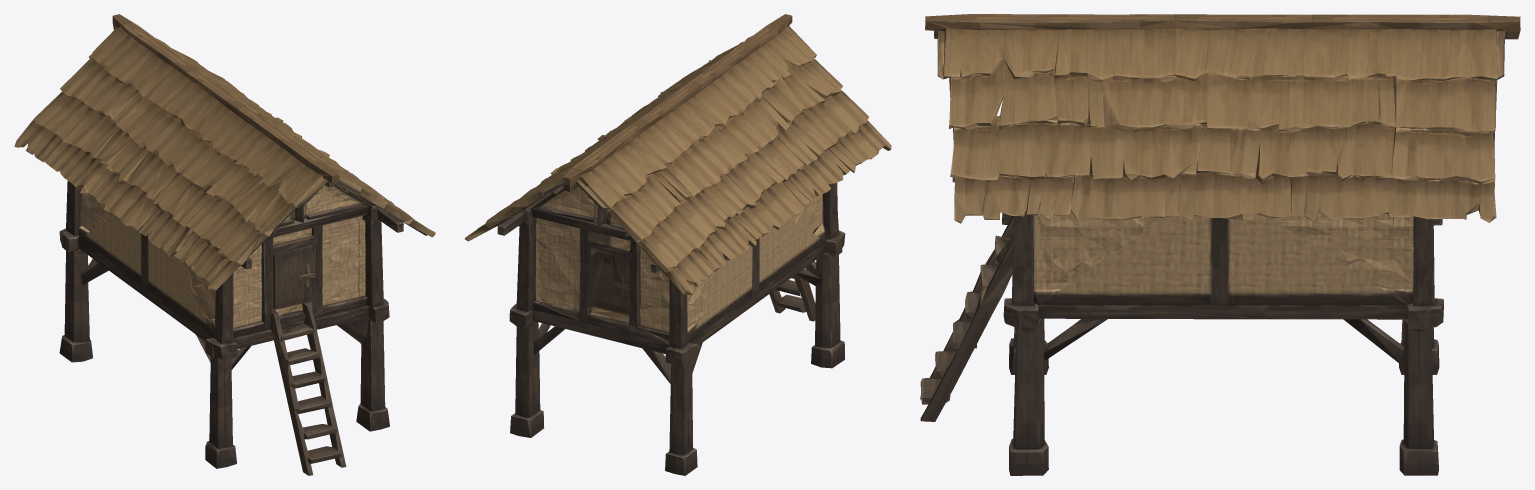
The model's file is S3_granary_a.glb.
The picture shows the model from 3 angles, left to right: view 1: azimuth 30°, elevation 25°; view 2: azimuth 150°, elevation 25°; view 3: azimuth 270°, elevation 25°; orthographic projection. The views are drawn at different scales.
Parts seen in each view (by area): view 1: Mesh_0; view 2: Mesh_0; view 3: Mesh_0.
Boxes of the visible parts, left/top/right/bottom form: Mesh_0: left=14, top=14, right=435, bottom=475; Mesh_0: left=465, top=14, right=891, bottom=475; Mesh_0: left=920, top=14, right=1520, bottom=475.
Size of the model in its own units: 2.42 by 3 by 4.06.
Materials: 1 (1 with a texture image).
